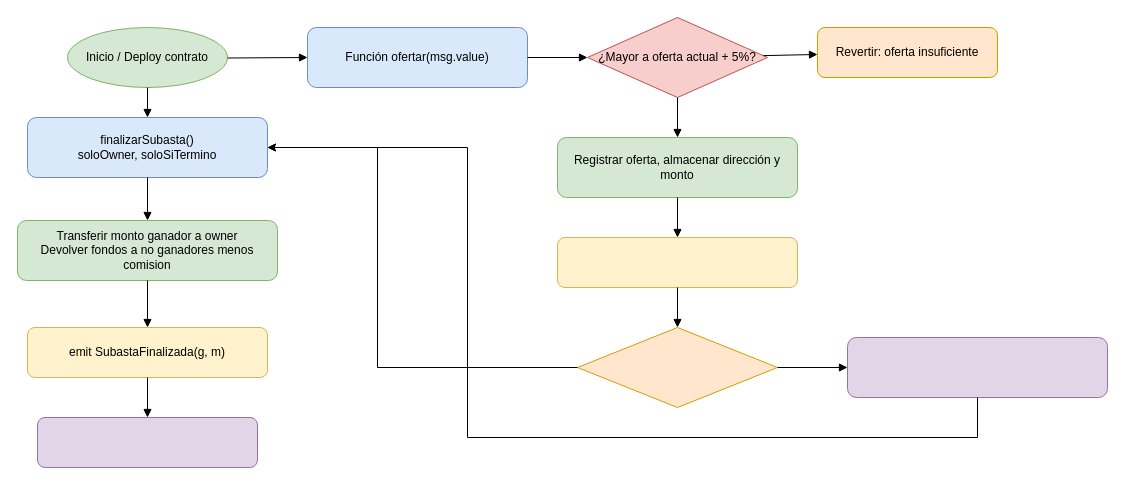
Image size: 1125x485. Some labels were removed from this diagram. The shapes that lost their labels are listed below. From the top down, each one's centre as x and y in pixels, then its label:
At point (677, 262): "emit NuevaOferta(direccion, monto)".
At point (677, 367): "¿Faltan menos de 10 minutos?".
At point (977, 367): "Extender subasta +10min emit TiempoExtendido(nuevoTiempo)".
At point (147, 442): "reembolsarExceso(address)".
